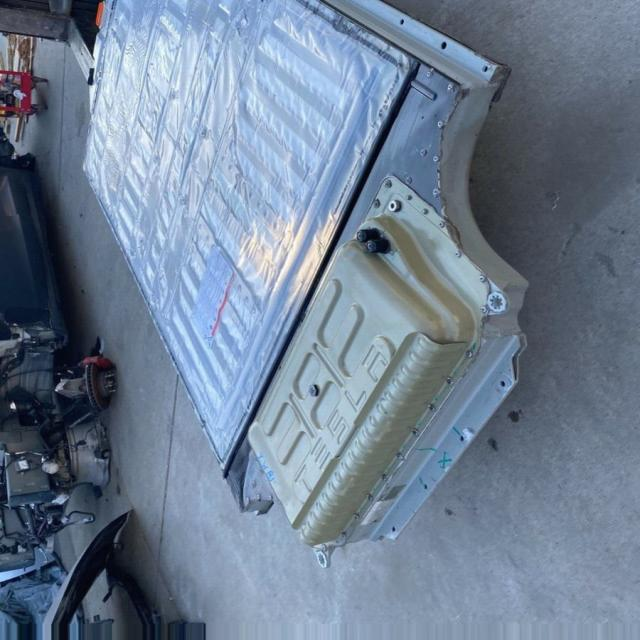Screw: (412, 67, 438, 83), (418, 399, 442, 415), (442, 78, 458, 96), (478, 273, 495, 289), (191, 128, 216, 138), (360, 489, 377, 503), (408, 427, 428, 438), (453, 251, 471, 263), (404, 173, 416, 191), (418, 144, 429, 163), (432, 185, 448, 198), (362, 199, 388, 207), (379, 180, 402, 189), (399, 194, 416, 204), (167, 92, 180, 105), (435, 218, 446, 231), (464, 350, 475, 363), (417, 207, 432, 216), (394, 454, 410, 462), (435, 152, 444, 166), (436, 118, 446, 129), (445, 376, 455, 387), (349, 515, 363, 522), (381, 474, 391, 482), (340, 531, 348, 541), (479, 305, 487, 312)
